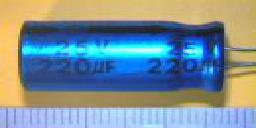Electrolytic Capacitor: (12, 14, 256, 99)
